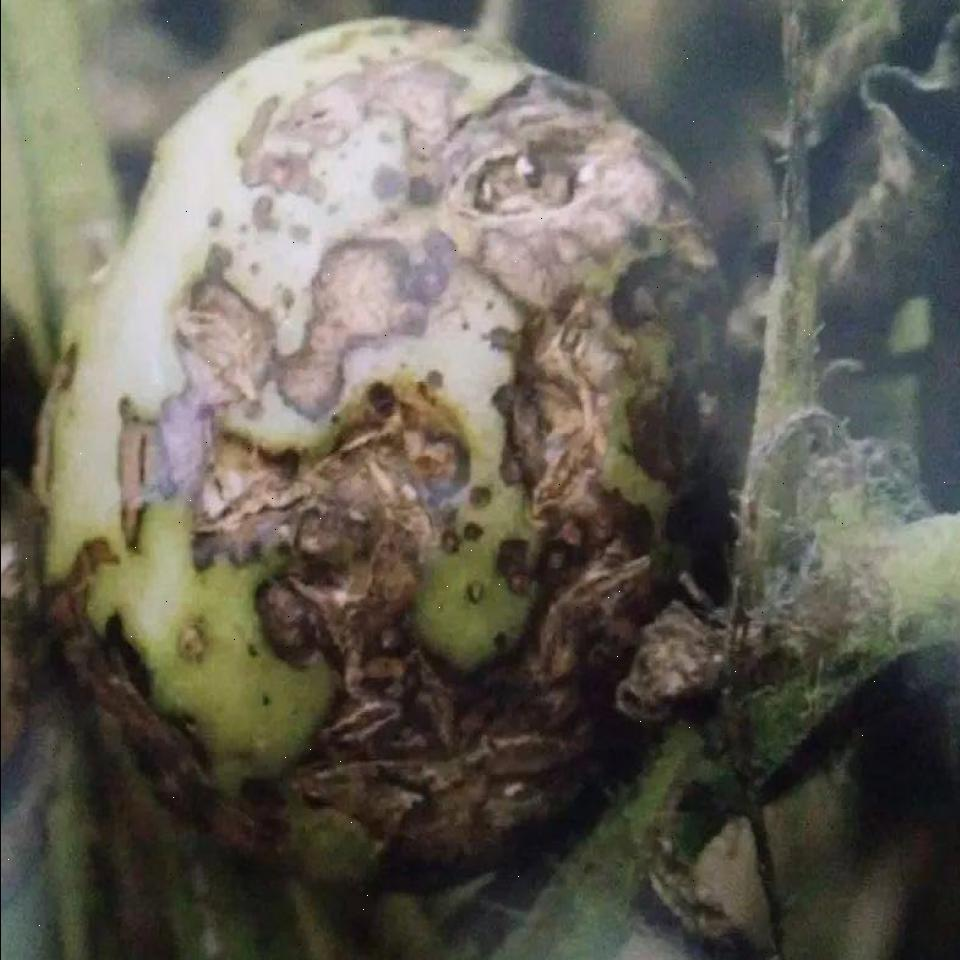Spotted wilt Virus: (38, 14, 734, 882)
